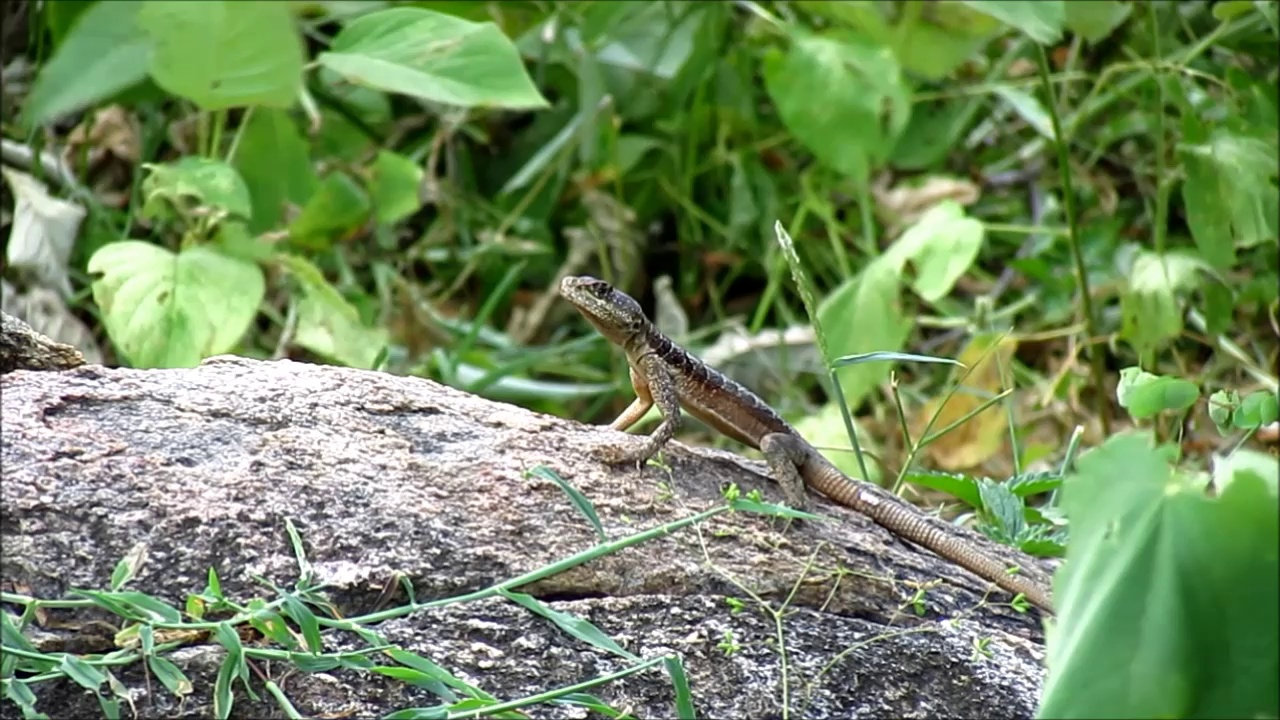body: (601, 314, 1055, 614)
head: (559, 275, 640, 340)
